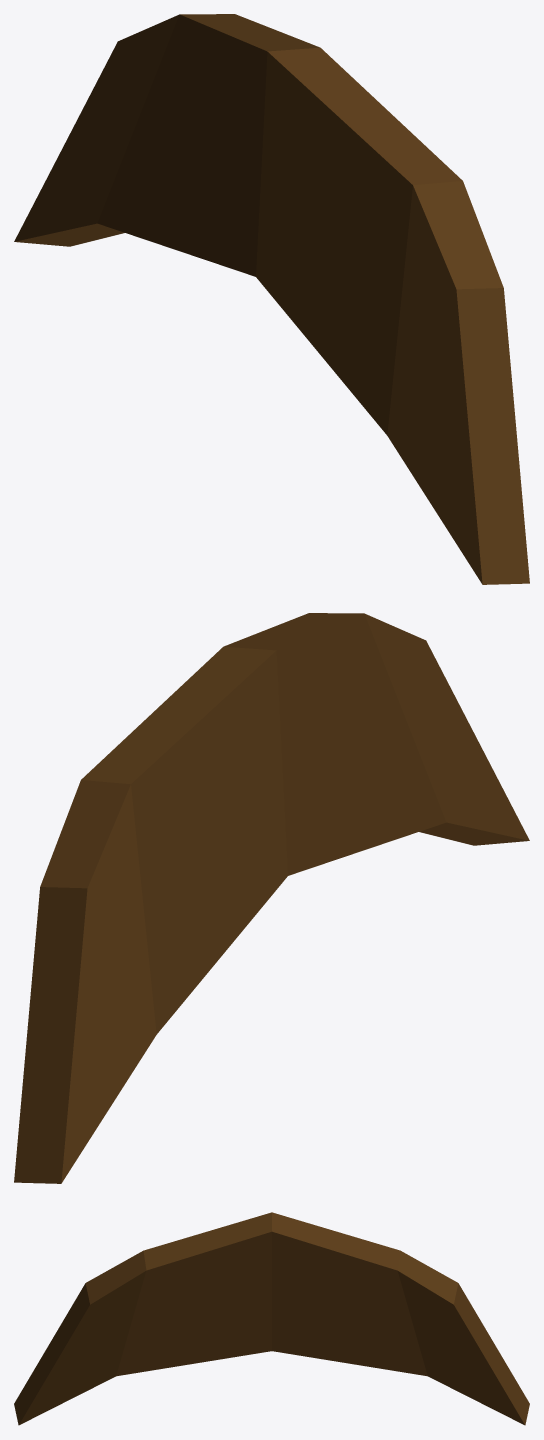
Rendered from ScottsFH.glb.
3 views of the same model, one above another, from view 1: azimuth 30°, elevation 25°; view 2: azimuth 150°, elevation 25°; view 3: azimuth 270°, elevation 25° (orthographic). The views are drawn at different scales.
Visible parts, largest first — view 1: ScottStache; view 2: ScottStache; view 3: ScottStache.
Boxes of the visible parts, x1,y1,x2,y2 form: ScottStache: (14, 14, 529, 584); ScottStache: (14, 613, 529, 1183); ScottStache: (14, 1212, 529, 1425).
Bounding box in the file's own units: 0.2178 × 0.7248 × 1.66.
